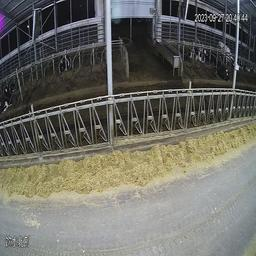cow: (1, 72, 17, 117), (217, 34, 235, 66), (54, 45, 72, 73), (214, 58, 230, 82), (193, 41, 208, 66)
